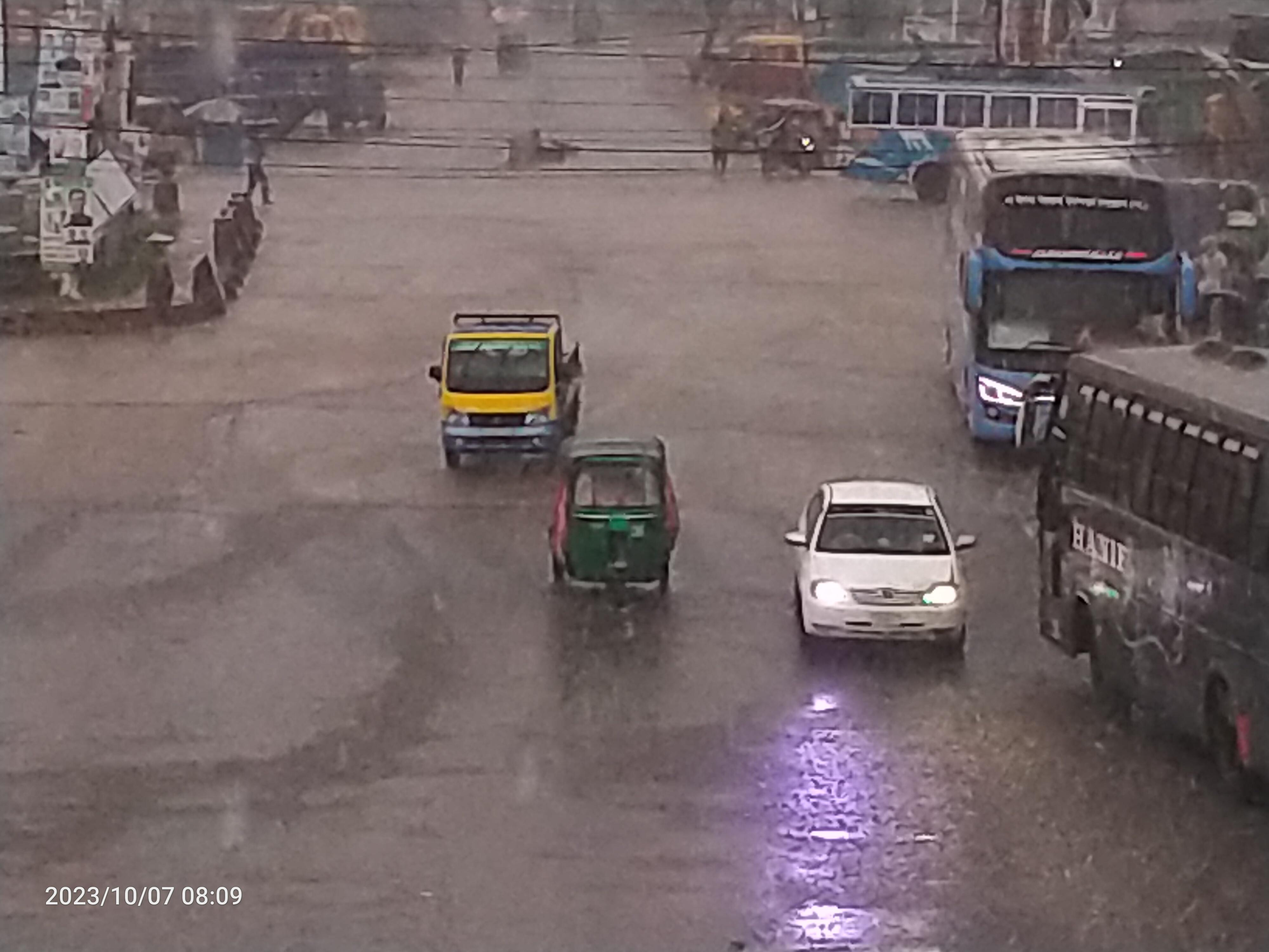Bus: (1030, 323, 1269, 803), (928, 107, 1201, 476), (825, 56, 1230, 211)
Car: (772, 435, 982, 677)
Truck: (409, 293, 585, 485)
